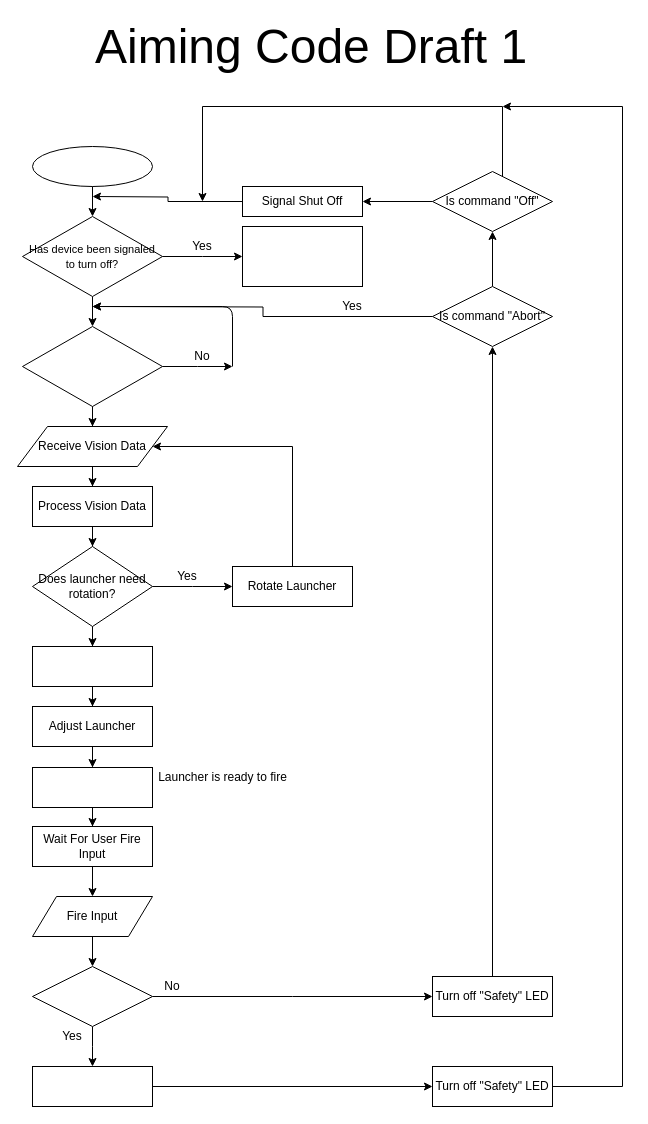
Image size: 648x1124. Some labels were removed from this diagram. Here are the shapes that lost their labels. From the top down, the box of each, then its label:
(32, 146, 152, 186): Device Turned On
(242, 226, 362, 286): Turn Off
(22, 326, 162, 406): Is device loaded?
(32, 646, 152, 686): Calculate Launch Angle
(32, 766, 152, 808): Light "Safety" LED
(32, 966, 152, 1026): Is input "Fire"
(32, 1066, 152, 1106): FIRE!
